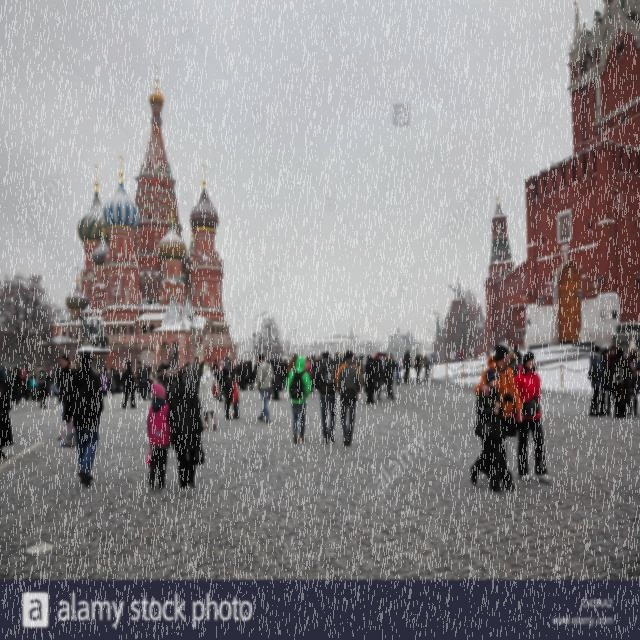pessoa: (473, 342, 524, 492), (60, 350, 104, 488), (510, 350, 553, 486), (165, 366, 206, 490), (469, 368, 506, 494), (145, 383, 174, 491), (334, 348, 364, 446), (311, 350, 340, 445), (285, 354, 313, 444), (608, 347, 633, 420), (586, 344, 609, 417), (197, 365, 220, 432), (56, 354, 78, 424), (74, 306, 109, 349), (256, 354, 275, 424), (507, 351, 522, 438), (0, 376, 14, 460), (626, 338, 640, 418), (604, 346, 619, 416), (220, 356, 234, 420), (121, 360, 138, 409), (598, 348, 610, 417), (382, 352, 396, 400), (210, 358, 224, 403), (38, 366, 52, 409), (372, 351, 384, 401), (364, 357, 376, 405), (0, 364, 14, 404), (85, 364, 97, 405), (11, 366, 23, 406), (56, 364, 68, 404), (372, 352, 383, 394), (304, 356, 316, 394), (138, 364, 150, 402), (153, 364, 170, 390), (381, 352, 392, 392), (163, 366, 175, 402), (272, 358, 282, 400), (48, 366, 60, 400), (422, 356, 437, 382), (230, 380, 240, 419), (146, 363, 156, 401), (402, 348, 412, 384), (350, 356, 360, 392), (188, 364, 200, 394), (135, 360, 144, 399), (314, 353, 324, 388), (412, 352, 423, 383), (308, 354, 318, 388), (158, 362, 168, 396), (238, 359, 248, 392), (30, 380, 44, 403), (364, 354, 372, 394), (266, 360, 274, 400), (105, 368, 116, 396), (354, 354, 366, 379), (18, 369, 28, 399), (237, 360, 246, 391), (95, 365, 103, 399), (22, 368, 30, 401), (202, 360, 218, 376), (29, 375, 38, 401), (394, 358, 402, 386), (512, 344, 522, 366), (560, 216, 570, 238), (248, 360, 255, 390), (243, 360, 250, 390), (100, 371, 108, 397), (113, 368, 121, 394), (132, 368, 140, 394), (331, 352, 343, 369), (287, 354, 297, 374), (120, 369, 128, 394), (149, 363, 159, 383), (282, 358, 288, 388), (234, 364, 241, 386), (44, 376, 51, 398), (199, 358, 206, 378), (29, 367, 38, 382), (458, 347, 466, 363), (252, 364, 258, 384), (110, 368, 116, 388), (192, 356, 200, 370), (219, 382, 226, 398), (217, 360, 224, 374), (450, 348, 456, 364), (229, 358, 234, 376), (474, 348, 479, 363), (52, 368, 57, 382), (52, 386, 58, 397), (156, 364, 162, 374), (256, 360, 261, 370), (423, 354, 427, 366), (278, 356, 284, 364), (104, 368, 108, 380), (182, 362, 190, 368), (486, 350, 491, 358), (294, 352, 298, 362), (329, 356, 334, 364), (118, 368, 122, 372), (100, 367, 103, 371), (265, 360, 269, 362)
